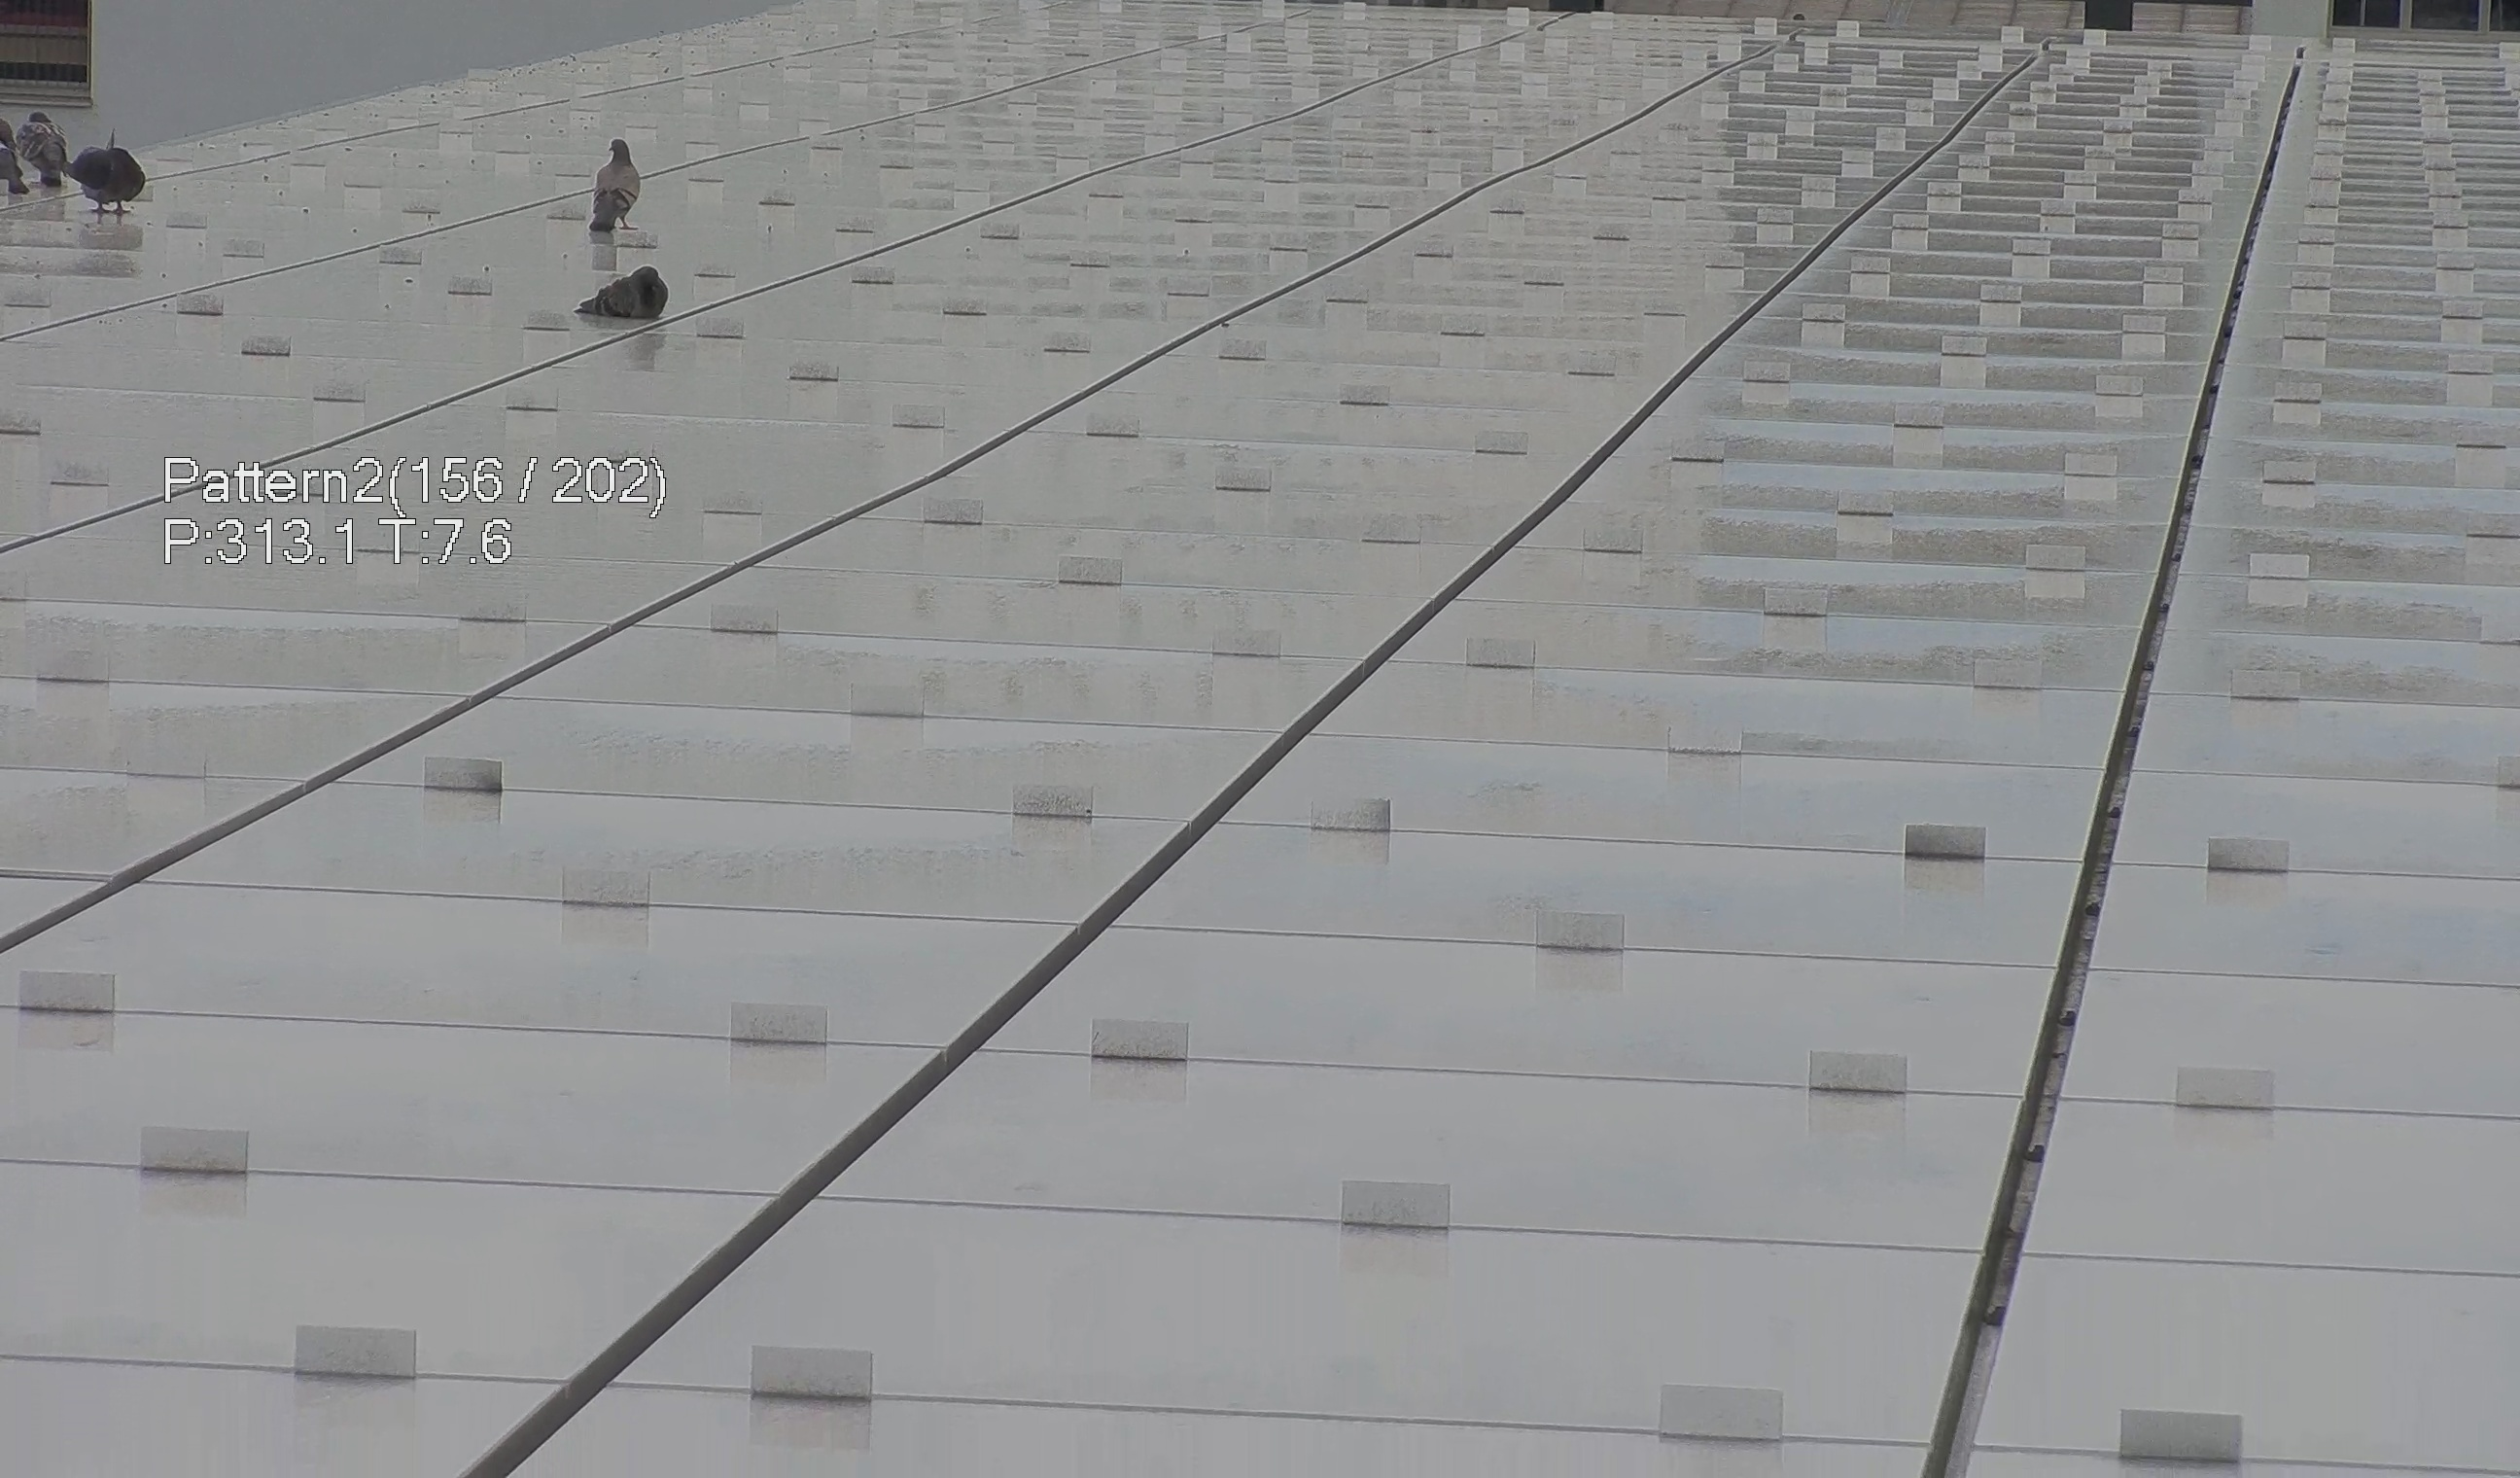Pigeon: (577, 127, 647, 259), (69, 132, 167, 223), (564, 252, 666, 322), (16, 106, 76, 195)
